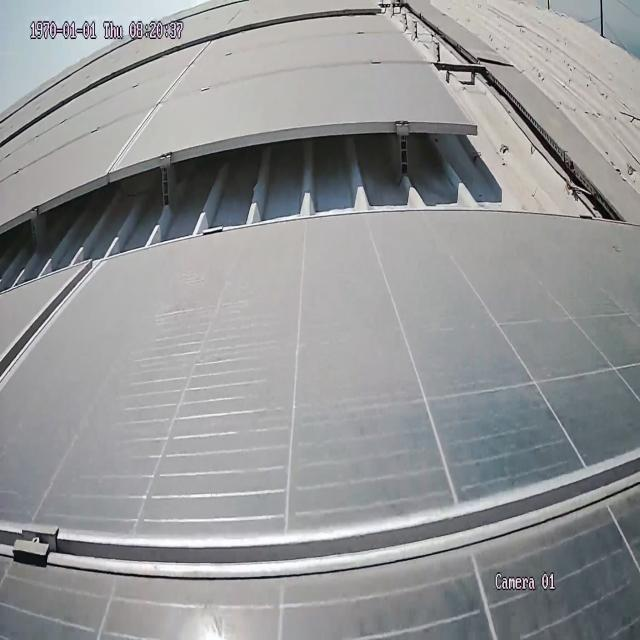interior panel: (0, 403, 640, 615), (0, 261, 117, 401), (112, 50, 215, 156)
outher panel: (8, 0, 640, 277)
